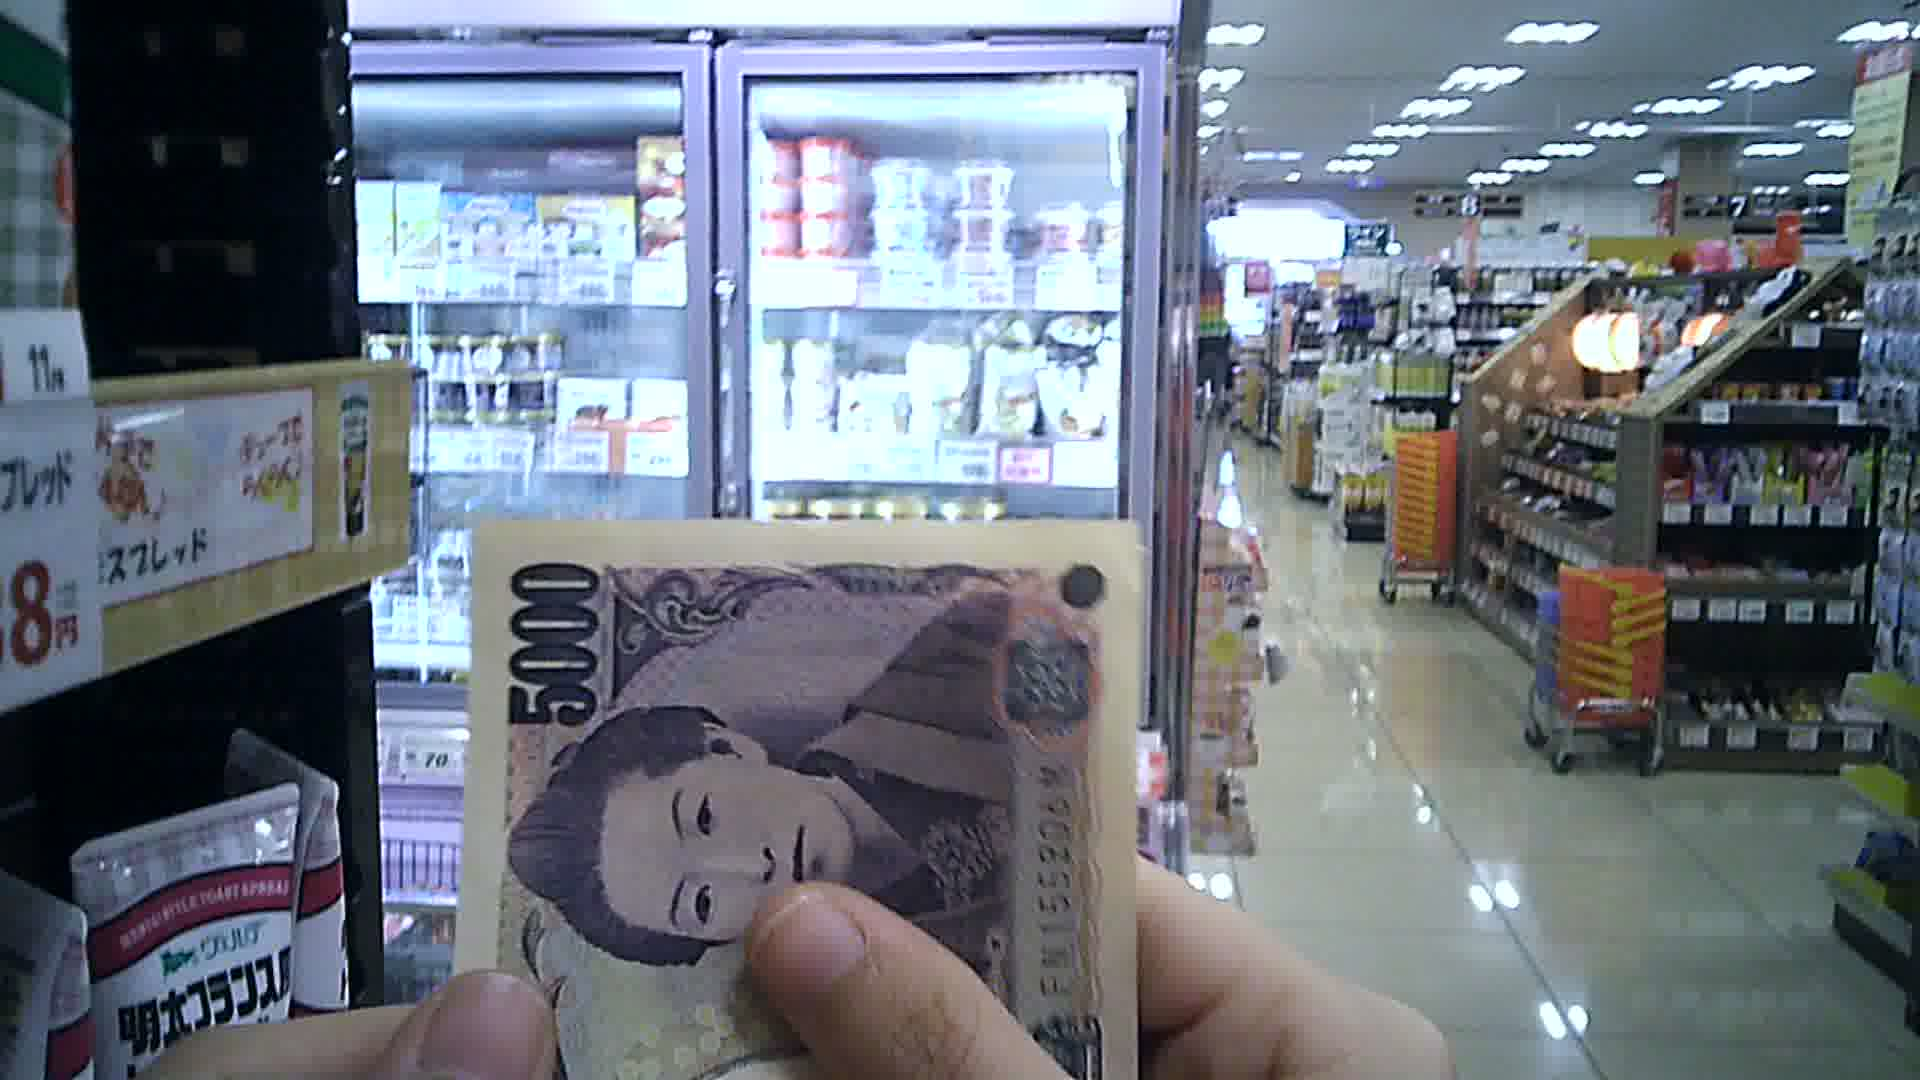5,000 Yen: (455, 505, 1176, 1079)
